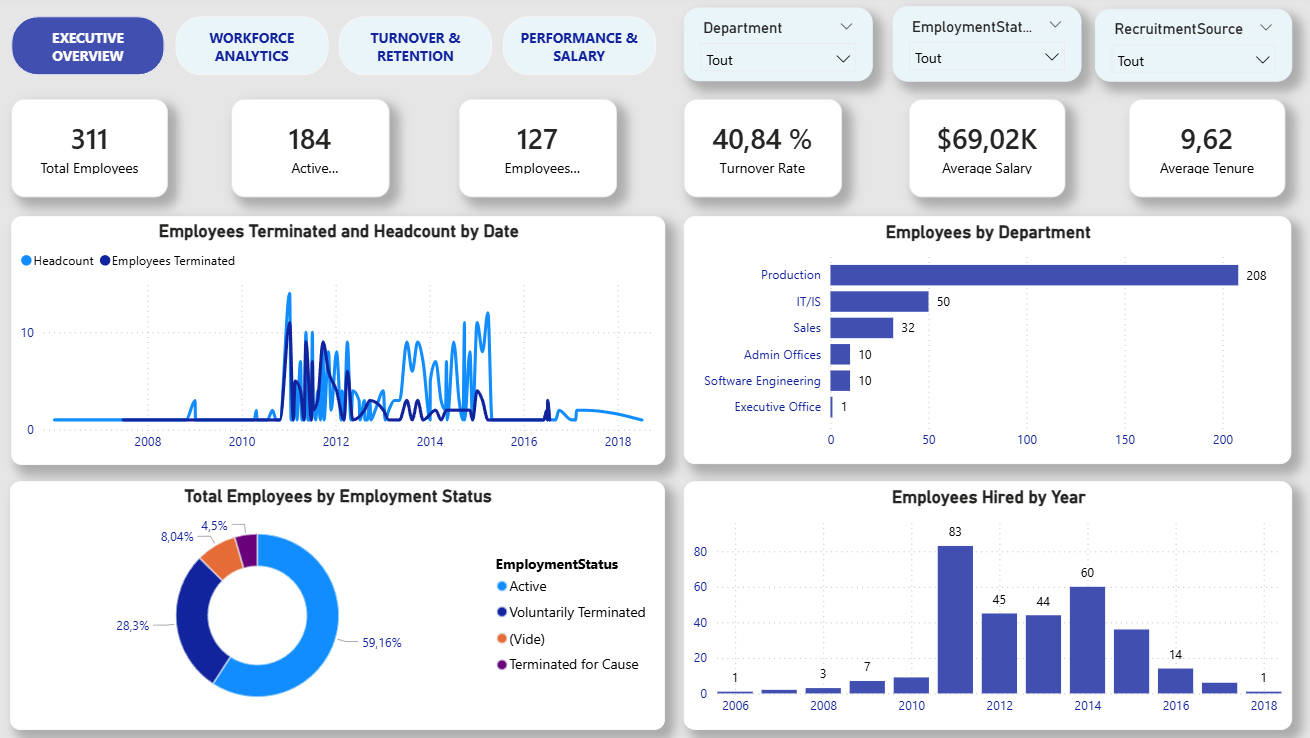

Layout of this report page (visuals, bound fields, positions):
{"tool":"powerbi","page":{"name":"EXECUTIVE OVERVIEW","canvas":[1280,720],"ordinal":0},"visuals":[{"type":"cardVisual","fields":{"Data":["_mesures.Total Employees"]},"box":[24.8,100.1,151.5,95.3],"z":0},{"type":"cardVisual","fields":{"Data":["_mesures.Active Employees"]},"box":[237.3,100.1,152.5,95.3],"z":1000},{"type":"cardVisual","fields":{"Data":["_mesures.Employees Terminated"]},"box":[457.5,100.1,152.5,95.3],"z":2000},{"type":"cardVisual","fields":{"Data":["_mesures.Turnover Rate (%)"]},"box":[674.8,100.1,152.5,95.3],"z":3000},{"type":"cardVisual","fields":{"Data":["_mesures.Average Salary"]},"box":[892.1,100.1,151.5,95.3],"z":4000},{"type":"cardVisual","fields":{"Data":["_mesures.Average Tenure"]},"box":[1103.7,100.1,151.5,95.3],"z":5000},{"type":"lineChart","title":"Employees Terminated  and Headcount by Date","fields":{"Y":["_mesures.Headcount","_mesures.Employees Terminated"],"Category":["Date.Date"]},"box":[24.8,213.5,630.9,240.2],"z":6000},{"type":"clusteredBarChart","title":"Employees by Department","fields":{"Y":["_mesures.Total Employees"],"Category":["Department.Department"]},"box":[674.8,213.5,586.2,239.2],"z":7000},{"type":"donutChart","title":"Total Employees by Employment Status","fields":{"Category":["EmploymentStatus.EmploymentStatus"],"Y":["_mesures.Total Employees"]},"box":[23.8,469.9,631.9,240.2],"z":8000},{"type":"clusteredColumnChart","title":"Employees Hired by Year","fields":{"Category":["Date.Year"],"Y":["_mesures.Employees Hired"]},"box":[673.8,469.9,587.1,240.2],"z":9000},{"type":"slicer","fields":{"Values":["Department.Department"]},"box":[673.8,12.4,182,71.5],"z":10000},{"type":"slicer","fields":{"Values":["EmploymentStatus.EmploymentStatus"]},"box":[875.9,11.4,182,72.4],"z":11000},{"type":"slicer","fields":{"Values":["RecruitmentSource.RecruitmentSource"]},"box":[1071.5,13.8,190,70],"z":12000},{"type":"pageNavigator","box":[24.8,20,624.3,57.2],"z":13000}]}

Visuals, with their boxes in screenshot pixels (x1, y1, x2, y2), scaled from the page's 1280x720 canvas onto the 1310x738 screenshot:
cardVisual - _mesures.Total Employees: [x1=25, y1=103, x2=180, y2=200]
cardVisual - _mesures.Active Employees: [x1=243, y1=103, x2=399, y2=200]
cardVisual - _mesures.Employees Terminated: [x1=468, y1=103, x2=624, y2=200]
cardVisual - _mesures.Turnover Rate (%): [x1=691, y1=103, x2=847, y2=200]
cardVisual - _mesures.Average Salary: [x1=913, y1=103, x2=1068, y2=200]
cardVisual - _mesures.Average Tenure: [x1=1130, y1=103, x2=1285, y2=200]
"Employees Terminated  and Headcount by Date" lineChart: [x1=25, y1=219, x2=671, y2=465]
"Employees by Department" clusteredBarChart: [x1=691, y1=219, x2=1291, y2=464]
"Total Employees by Employment Status" donutChart: [x1=24, y1=482, x2=671, y2=728]
"Employees Hired by Year" clusteredColumnChart: [x1=690, y1=482, x2=1290, y2=728]
slicer - Department.Department: [x1=690, y1=13, x2=876, y2=86]
slicer - EmploymentStatus.EmploymentStatus: [x1=896, y1=12, x2=1083, y2=86]
slicer - RecruitmentSource.RecruitmentSource: [x1=1097, y1=14, x2=1291, y2=86]
pageNavigator: [x1=25, y1=20, x2=664, y2=79]
